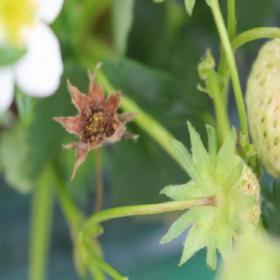Gray Mold: (50, 62, 140, 182)
